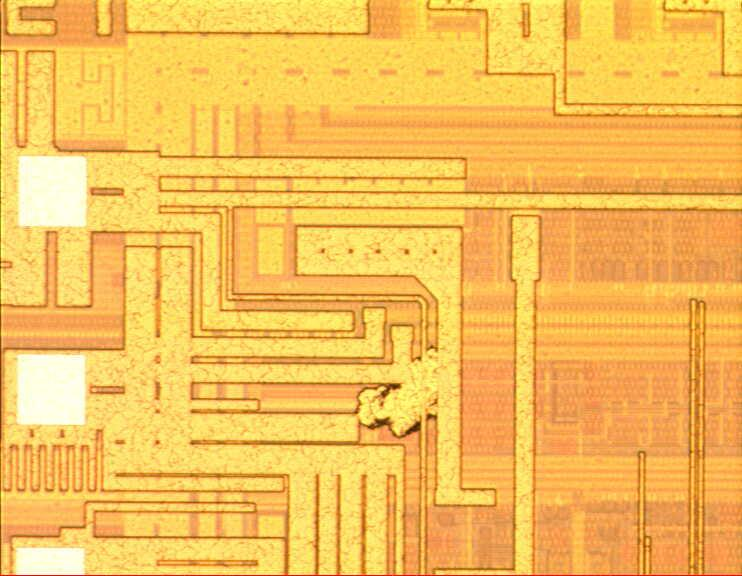BLOCK ETCH: (347, 339, 455, 442)
